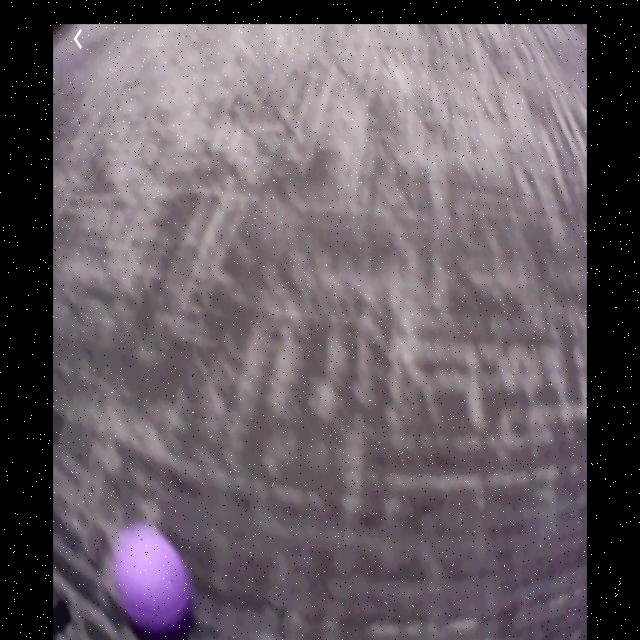ball: (112, 528, 186, 634)
